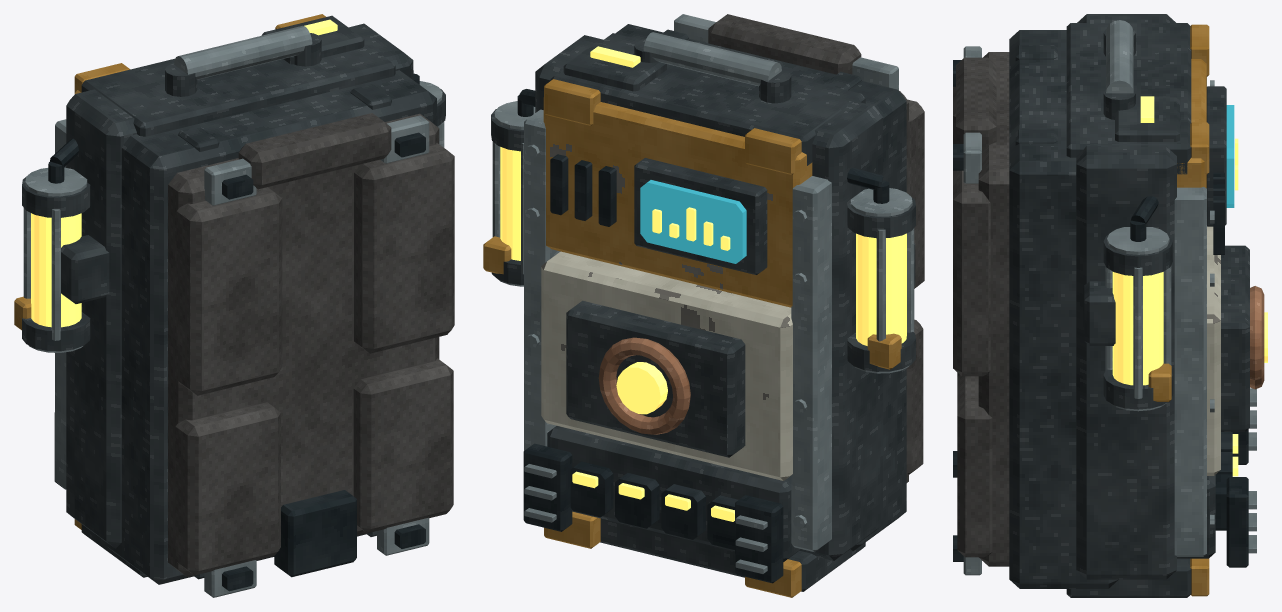
File: backpack_kinetic.glb
3 renders of one model, left to right at view 1: azimuth 30°, elevation 25°; view 2: azimuth 150°, elevation 25°; view 3: azimuth 270°, elevation 25°, orthographic.
Parts seen in each view (by area): view 1: backpack_kinetic; view 2: backpack_kinetic; view 3: backpack_kinetic.
Part boxes in pixels (x1,y1,x2,y2): backpack_kinetic: [14, 14, 454, 597]; backpack_kinetic: [483, 14, 924, 597]; backpack_kinetic: [953, 14, 1267, 597].
Bounding box in the file's own units: 0.4162 × 0.4645 × 0.272.
9 materials, 7 textured.
